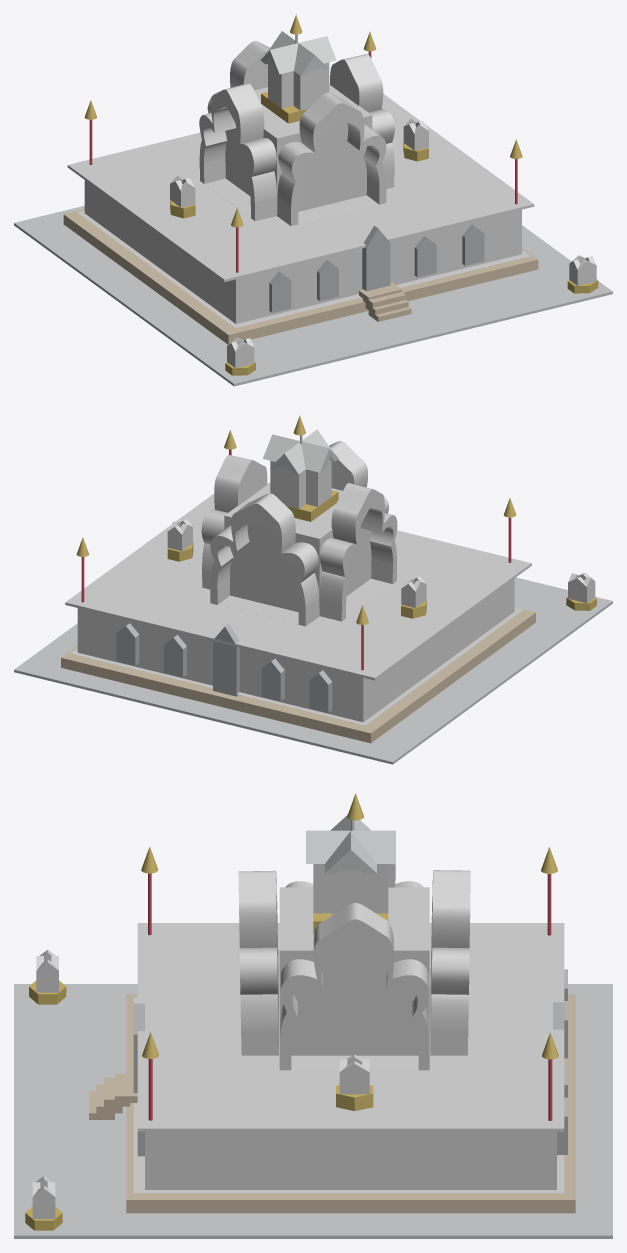
File: Khoi-Tem.glb
3 renders of one model, top to bottom at view 1: azimuth 30°, elevation 25°; view 2: azimuth 150°, elevation 25°; view 3: azimuth 270°, elevation 25°, orthographic. The views are drawn at different scales.
Visible parts, largest first — view 1: Mesh_Mesh_head_geo.001_lambert2SG.001; view 2: Mesh_Mesh_head_geo.001_lambert2SG.001; view 3: Mesh_Mesh_head_geo.001_lambert2SG.001.
Boxes of the visible parts, x1,y1,x2,y2 form: Mesh_Mesh_head_geo.001_lambert2SG.001: [14, 14, 612, 386]; Mesh_Mesh_head_geo.001_lambert2SG.001: [14, 415, 612, 764]; Mesh_Mesh_head_geo.001_lambert2SG.001: [14, 793, 612, 1238].
Size of the model in its own units: 0.159 by 0.094 by 0.16.
